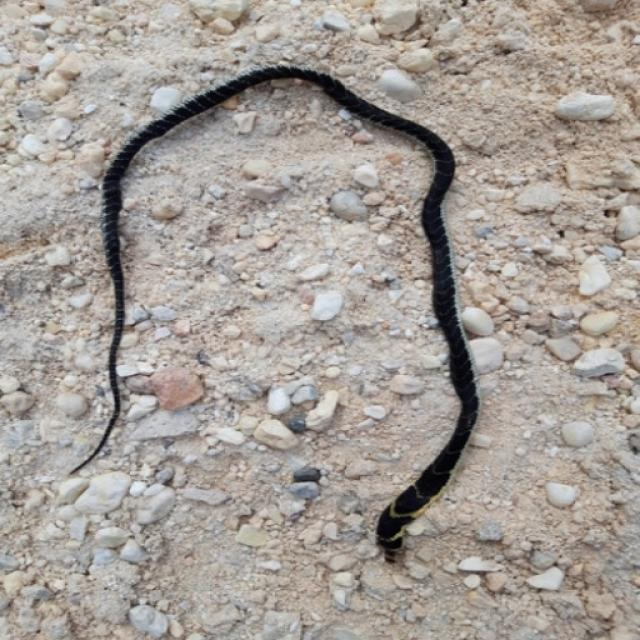snake: (64, 47, 508, 561)
